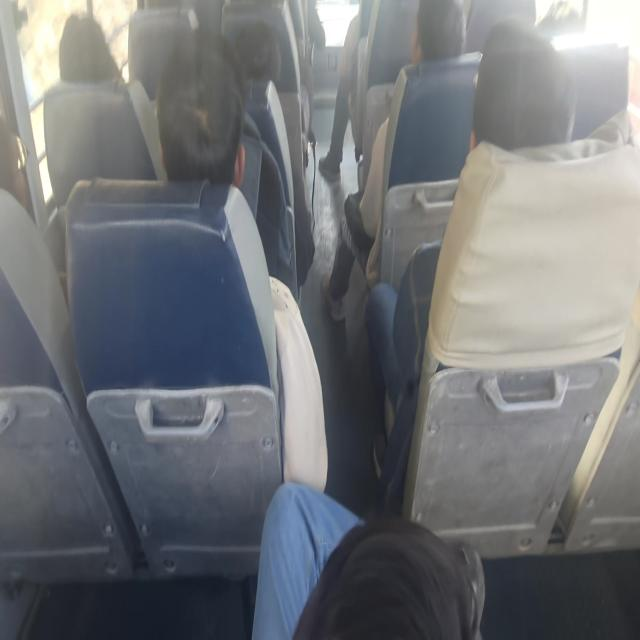person: (263, 484, 507, 640), (146, 41, 249, 196), (483, 30, 572, 176), (0, 105, 62, 277), (42, 0, 125, 86), (398, 0, 468, 89), (209, 26, 290, 99), (530, 0, 596, 61)
